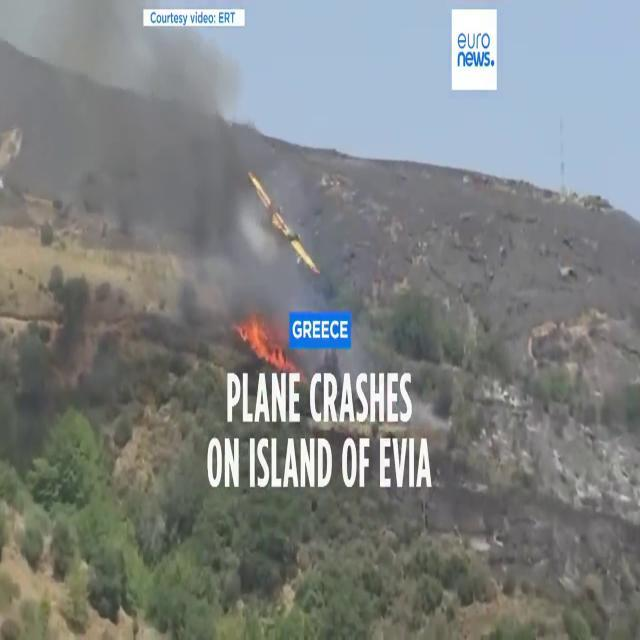Fire: (223, 305, 286, 378)
Smoke: (2, 1, 286, 286)
